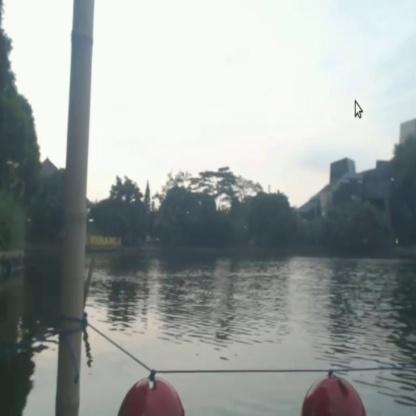red_buoy: (300, 372, 367, 415), (116, 373, 176, 415)
